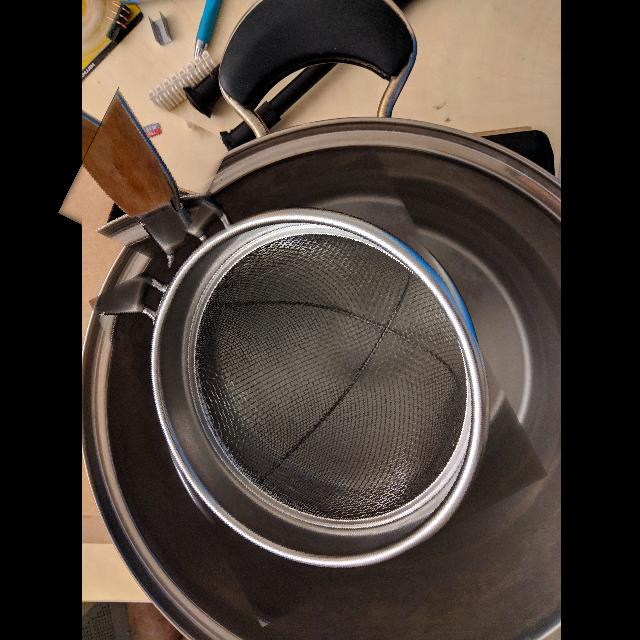Handle: (68, 98, 218, 258)
Strainer: (122, 176, 514, 600)
